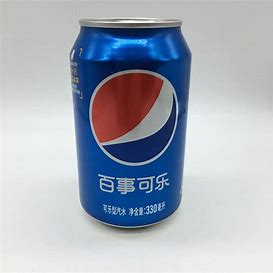Pepsi: (68, 17, 194, 233)
